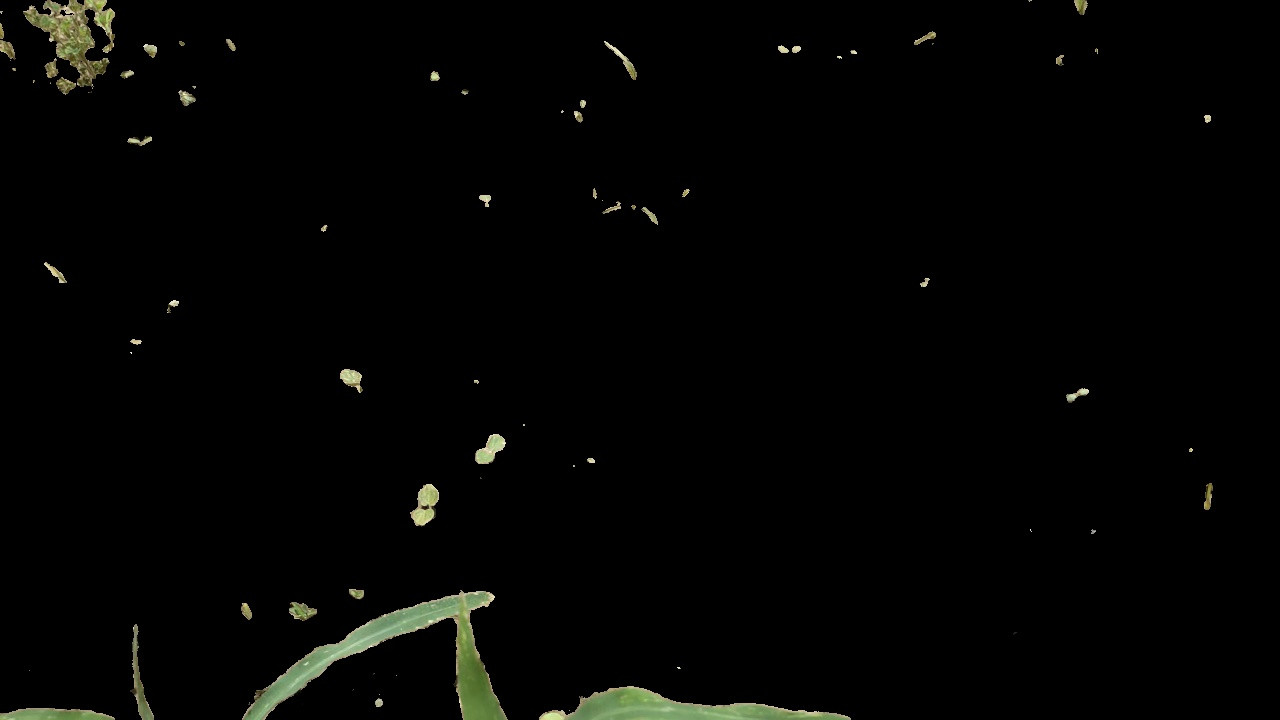crop: (1, 535, 476, 720), (439, 595, 859, 720)
weed: (1, 1, 123, 104), (466, 429, 512, 471), (409, 478, 443, 527), (288, 589, 325, 628), (119, 128, 171, 155), (1058, 374, 1095, 408), (336, 362, 372, 395)
